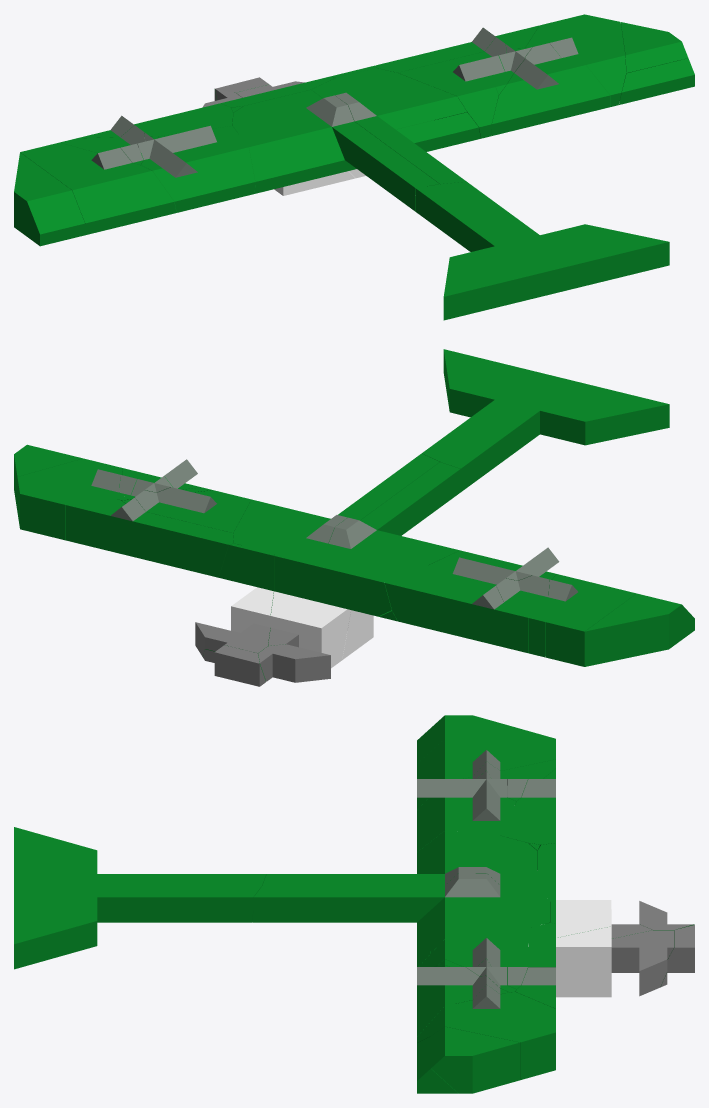
File: L2AGreenDebris.dae
The picture shows the model from 3 angles, top to bottom: view 1: azimuth 30°, elevation 25°; view 2: azimuth 150°, elevation 25°; view 3: azimuth 270°, elevation 25°; orthographic projection. The views are drawn at different scales.
Parts seen in each view (by area): view 1: Cube.010_cell.011, Cube.010_cell.003, Cube.010_cell.020, Cube.010_cell.004, Cube.010_cell.018, Cube.010_cell.015, Cube.010_cell.027, Cube.010_cell.005, Cube.010_cell.017, Cube.010_cell.021, Cube.010_cell.014, Cube.010_cell.009 (+9 smaller); view 2: Cube.010_cell.011, Cube.010_cell.008, Cube.010_cell.003, Cube.010_cell.010, Cube.010_cell.020, Cube.010_cell.027, Cube.010_cell.007, Cube.010_cell.005, Cube.010_cell.021, Cube.010_cell.018, Cube.010_cell.019, Cube.010_cell.017 (+10 smaller); view 3: Cube.010_cell.020, Cube.010_cell.011, Cube.010_cell.027, Cube.010_cell.003, Cube.010_cell.021, Cube.010_cell.004, Cube.010_cell.014, Cube.010_cell.018, Cube.010_cell.019, Cube.010_cell.017, Cube.010_cell.015, Cube.010_cell.023 (+13 smaller).
Part boxes in pixels (bbox=[...]): Cube.010_cell.011: bbox=[443, 224, 669, 320]; Cube.010_cell.003: bbox=[232, 90, 439, 211]; Cube.010_cell.020: bbox=[311, 68, 466, 186]; Cube.010_cell.004: bbox=[137, 125, 255, 212]; Cube.010_cell.018: bbox=[20, 142, 176, 235]; Cube.010_cell.015: bbox=[491, 43, 609, 135]; Cube.010_cell.027: bbox=[415, 181, 539, 251]; Cube.010_cell.005: bbox=[14, 152, 85, 246]; Cube.010_cell.017: bbox=[398, 37, 519, 138]; Cube.010_cell.021: bbox=[526, 14, 626, 106]; Cube.010_cell.014: bbox=[621, 22, 688, 74]; Cube.010_cell.009: bbox=[619, 58, 694, 104]; Cube.010_cell.011: bbox=[443, 349, 669, 445]; Cube.010_cell.008: bbox=[270, 553, 391, 668]; Cube.010_cell.003: bbox=[311, 462, 467, 583]; Cube.010_cell.010: bbox=[384, 567, 527, 652]; Cube.010_cell.020: bbox=[233, 453, 439, 556]; Cube.010_cell.027: bbox=[422, 400, 539, 491]; Cube.010_cell.007: bbox=[121, 497, 233, 577]; Cube.010_cell.005: bbox=[584, 593, 694, 666]; Cube.010_cell.021: bbox=[17, 458, 122, 540]; Cube.010_cell.018: bbox=[545, 574, 636, 666]; Cube.010_cell.019: bbox=[218, 543, 274, 632]; Cube.010_cell.017: bbox=[122, 487, 251, 545]; Cube.010_cell.020: bbox=[253, 873, 549, 952]; Cube.010_cell.011: bbox=[14, 827, 97, 969]; Cube.010_cell.027: bbox=[97, 874, 266, 922]; Cube.010_cell.003: bbox=[262, 830, 537, 885]; Cube.010_cell.021: bbox=[417, 992, 555, 1080]; Cube.010_cell.004: bbox=[417, 770, 516, 852]; Cube.010_cell.014: bbox=[431, 1026, 519, 1093]; Cube.010_cell.018: bbox=[417, 738, 555, 809]; Cube.010_cell.019: bbox=[549, 900, 611, 997]; Cube.010_cell.017: bbox=[419, 928, 527, 1003]; Cube.010_cell.015: bbox=[417, 965, 508, 1036]; Cube.010_cell.023: bbox=[611, 930, 673, 996].
Bounding box in the file's own units: 5.8 × 4.9 × 0.8.
